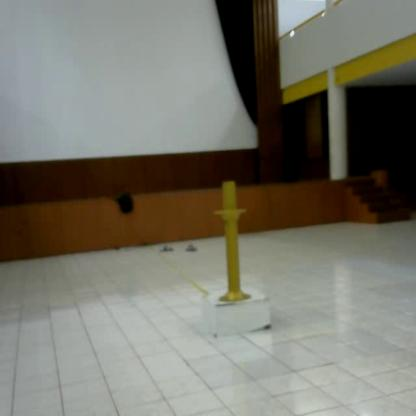pole: (209, 178, 255, 308)
